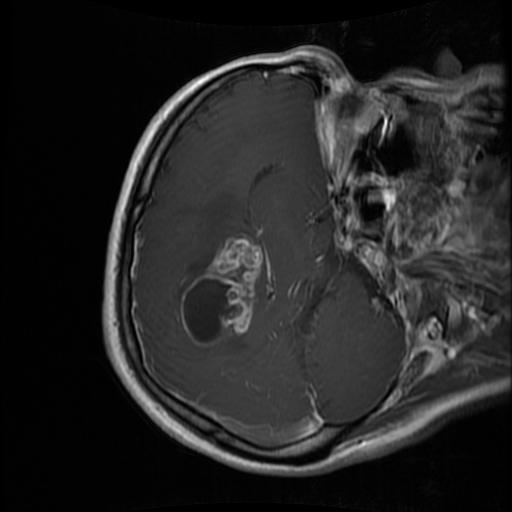glioma: (180, 239, 265, 348)
